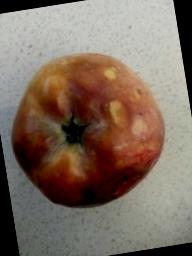Apple Overripe: (0, 27, 187, 232)
